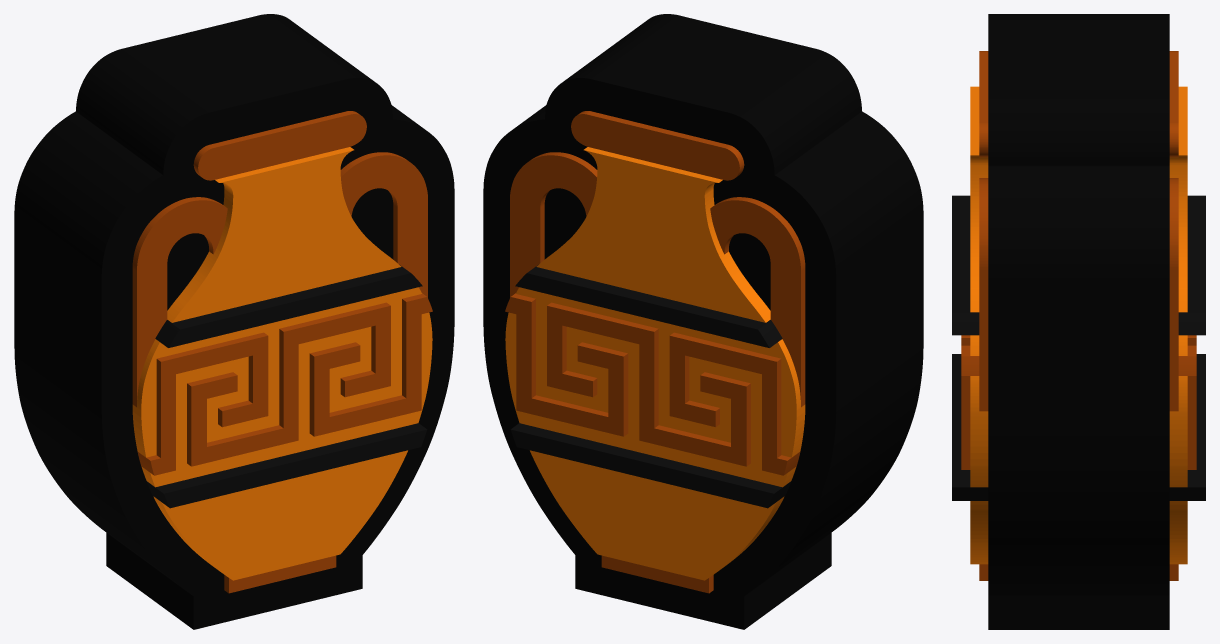
The picture shows the model from 3 angles, left to right: view 1: azimuth 30°, elevation 25°; view 2: azimuth 150°, elevation 25°; view 3: azimuth 270°, elevation 25°; orthographic projection. The views are drawn at different scales.
Parts seen in each view (by area): view 1: U+1F3FA_layer00_obj00, U+1F3FA_layer02_obj00, U+1F3FA_layer03_obj00, U+1F3FA_layer01_obj00, U+1F3FA_layer04_obj00; view 2: U+1F3FA_layer00_obj00, U+1F3FA_layer02_obj00, U+1F3FA_layer03_obj00, U+1F3FA_layer01_obj00, U+1F3FA_layer04_obj00; view 3: U+1F3FA_layer00_obj00, U+1F3FA_layer02_obj00, U+1F3FA_layer04_obj00, U+1F3FA_layer01_obj00, U+1F3FA_layer03_obj00.
Boxes of the visible parts, <box> form: U+1F3FA_layer00_obj00: <box>14,14,454,629</box>; U+1F3FA_layer02_obj00: <box>132,147,432,580</box>; U+1F3FA_layer03_obj00: <box>137,293,432,475</box>; U+1F3FA_layer01_obj00: <box>132,111,427,593</box>; U+1F3FA_layer04_obj00: <box>146,264,427,508</box>; U+1F3FA_layer00_obj00: <box>483,14,923,629</box>; U+1F3FA_layer02_obj00: <box>505,147,805,580</box>; U+1F3FA_layer03_obj00: <box>505,293,800,475</box>; U+1F3FA_layer01_obj00: <box>510,111,805,593</box>; U+1F3FA_layer04_obj00: <box>510,264,791,508</box>; U+1F3FA_layer00_obj00: <box>988,14,1169,629</box>; U+1F3FA_layer02_obj00: <box>970,86,1187,564</box>; U+1F3FA_layer04_obj00: <box>952,195,1205,500</box>; U+1F3FA_layer01_obj00: <box>979,51,1178,580</box>; U+1F3FA_layer03_obj00: <box>961,335,1196,469</box>.
Size of the model in its own units: 0.4665 by 0.649 by 0.28.
